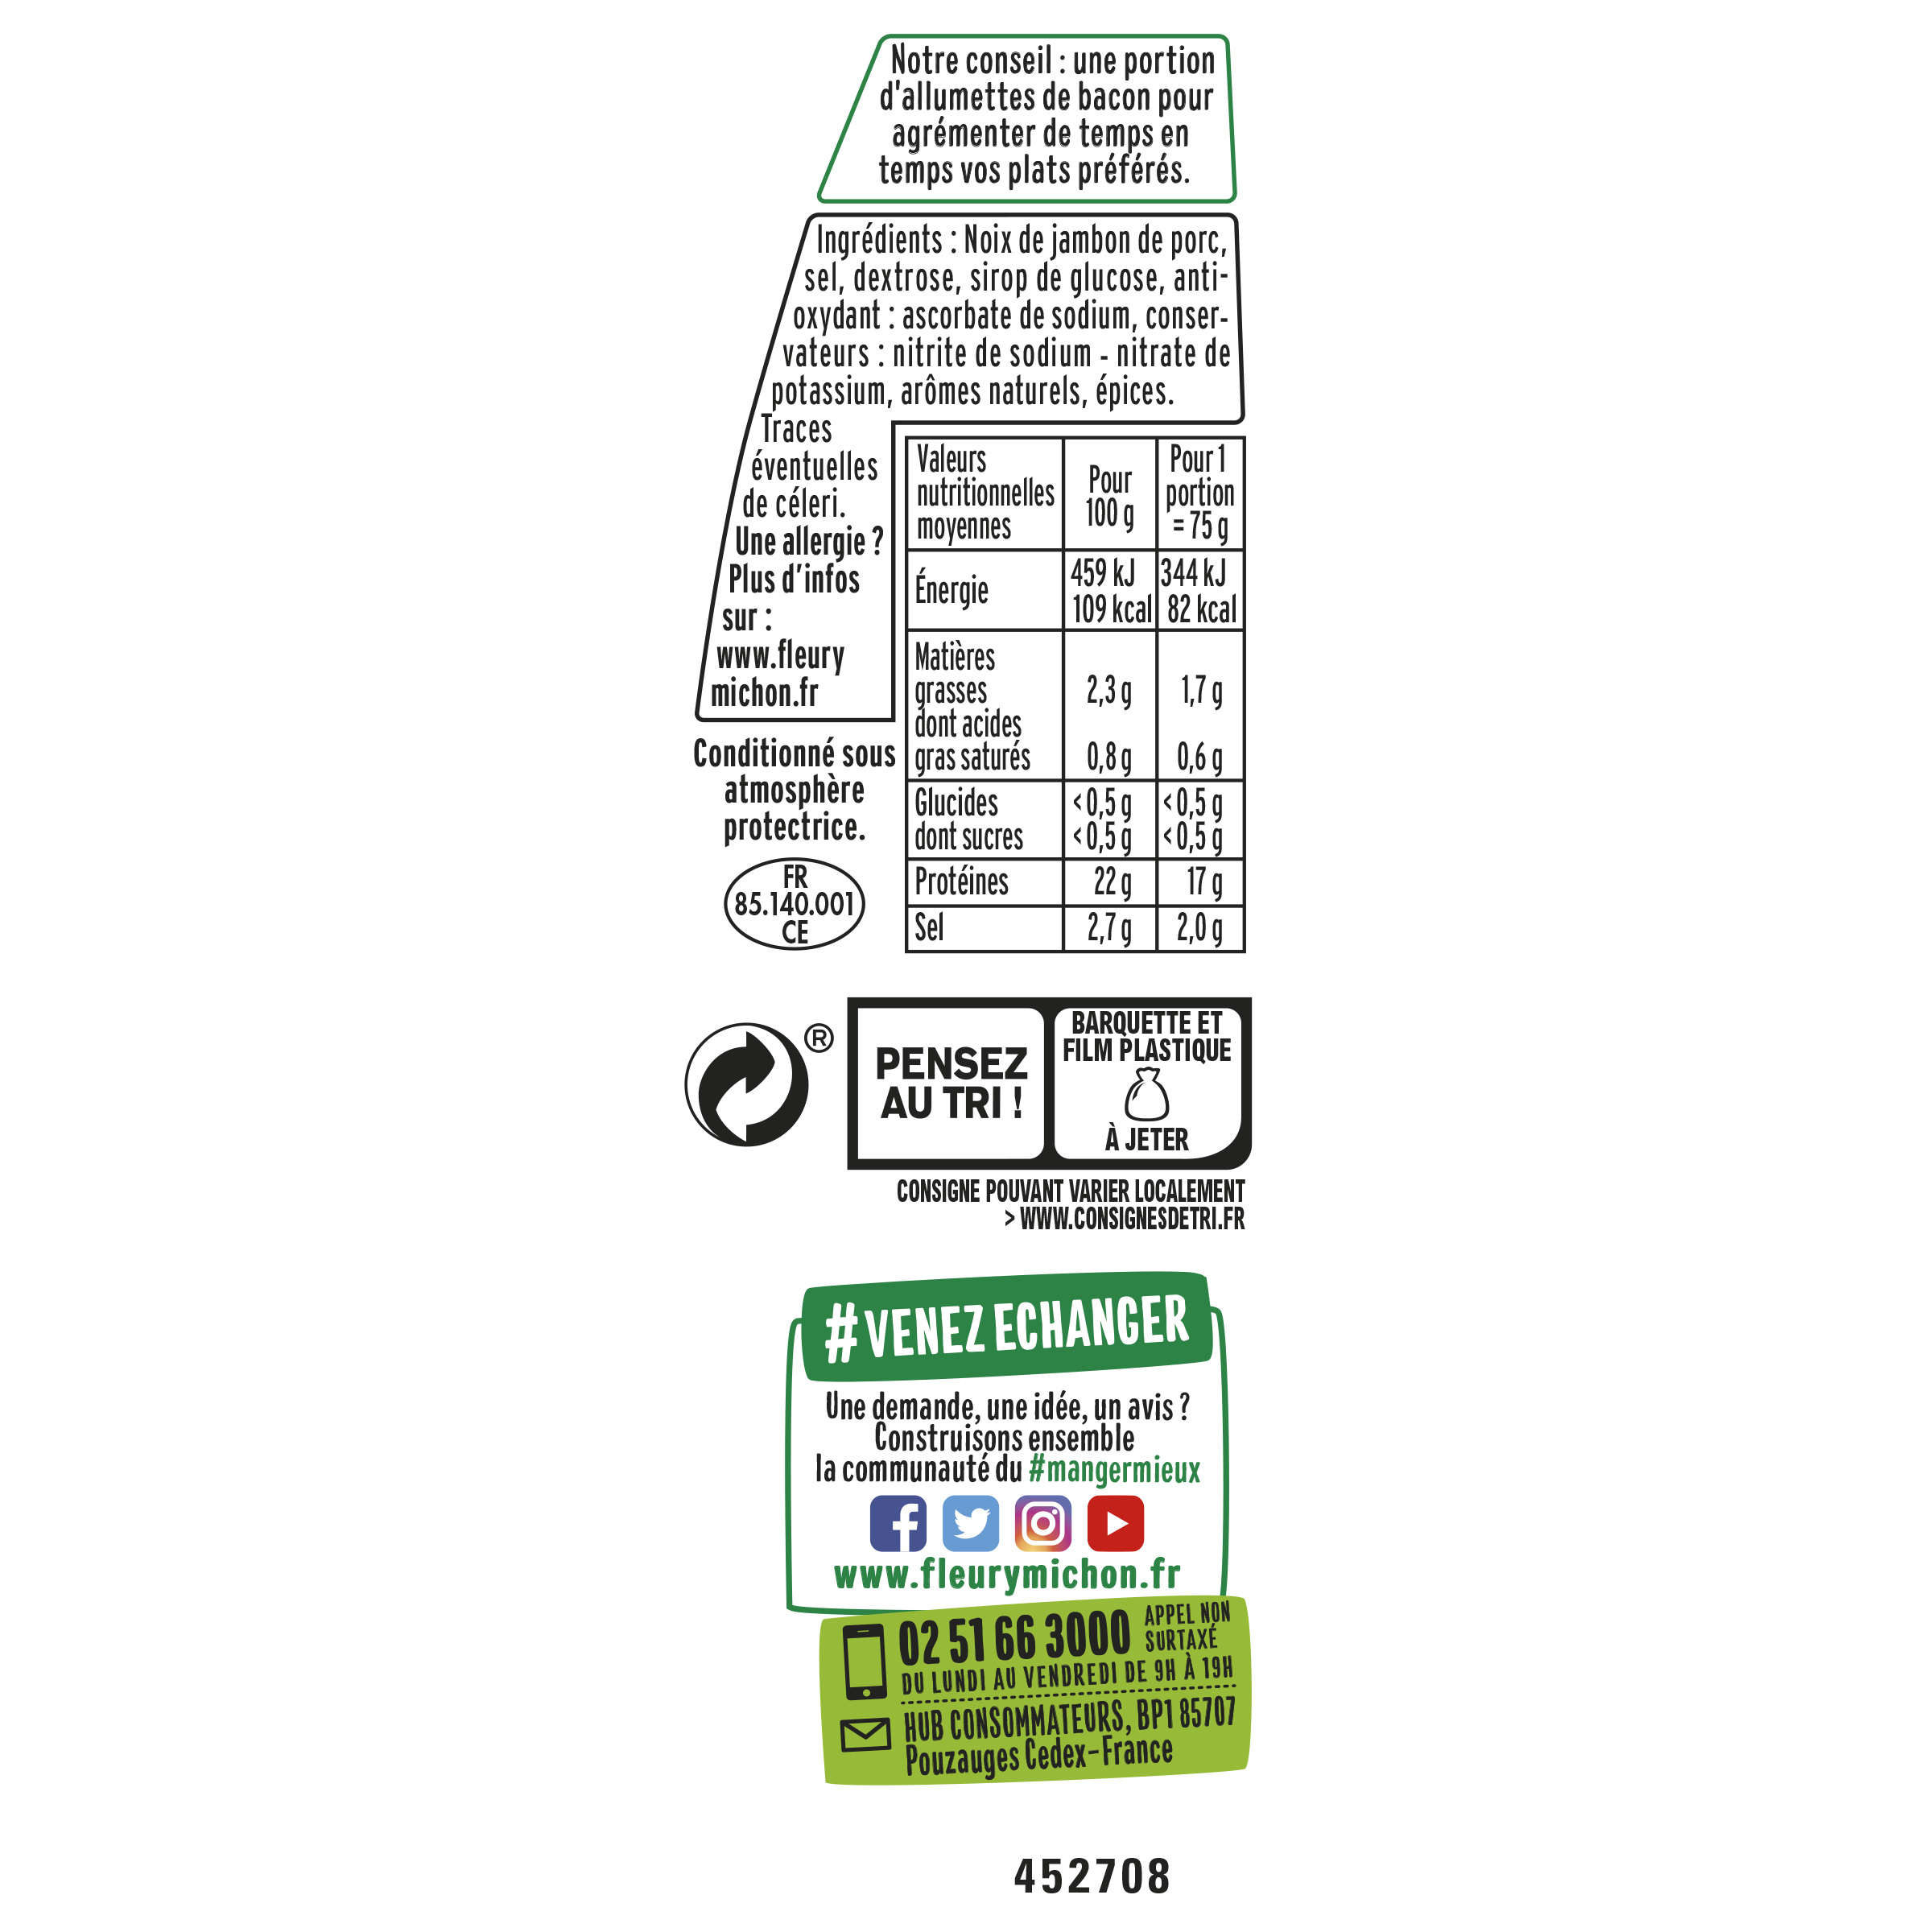column: (918, 444, 1054, 939), (1074, 444, 1150, 948), (1164, 444, 1237, 945)
table: (901, 435, 1249, 954)
